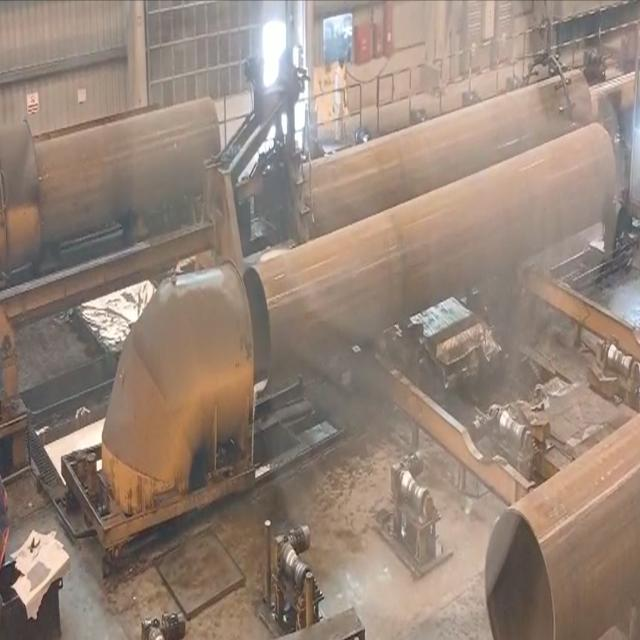warningzone: (355, 258, 637, 505)
